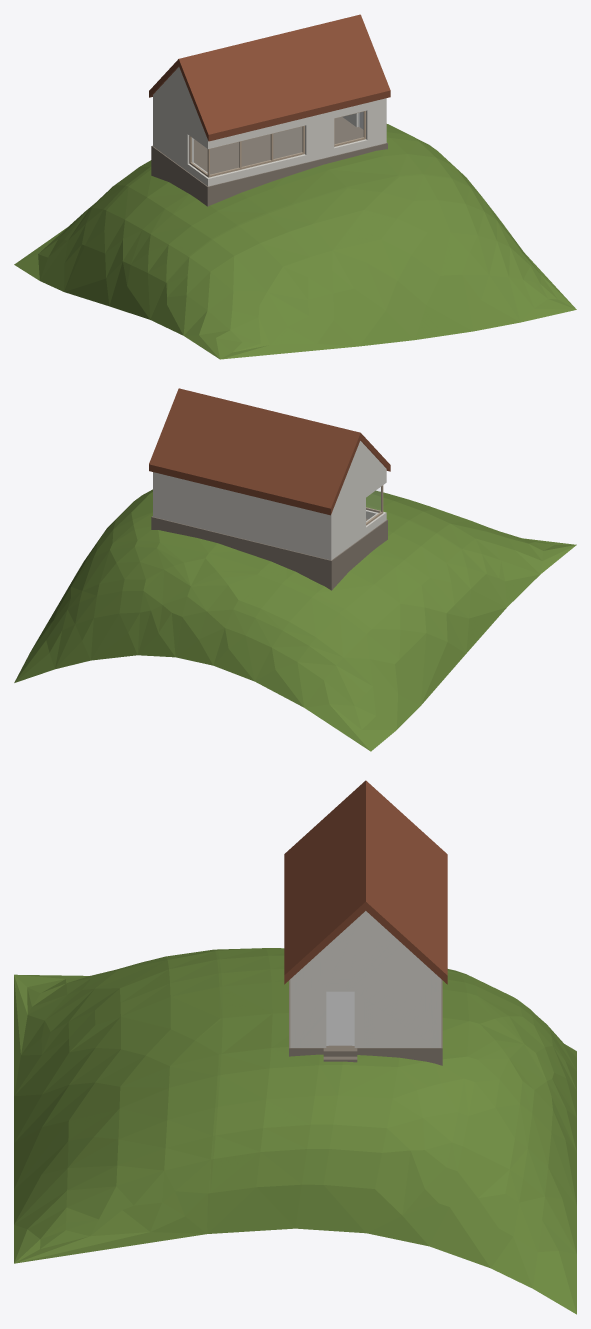
3 views of the same model, one above another, from view 1: azimuth 30°, elevation 25°; view 2: azimuth 150°, elevation 25°; view 3: azimuth 270°, elevation 25° (orthographic). The views are drawn at different scales.
Parts seen in each view (by area): view 1: 0GNruBn012euT0V4j1zNbY, 1OkhcYSJv5nB5Ye2gD90ix, 0WILkkrrn0ivmOkgqqAb$R, 38MvAlC2H7RhTum1r0FJFg, 15HQrV8WX2nud_EOSSfoGz, 2mxzwkYnTAaRbnWQoDxfDd; view 2: 0GNruBn012euT0V4j1zNbY, 0ZIj0vhLbDIBzLVO1s0S3q, 2dSmIsY2j10OJaUd5RmL3e, 0WILkkrrn0ivmOkgqqAb$R, 15HQrV8WX2nud_EOSSfoGz; view 3: 0GNruBn012euT0V4j1zNbY, 2XjjioqkD00gotrGmqpPnw, 1OkhcYSJv5nB5Ye2gD90ix, 0ZIj0vhLbDIBzLVO1s0S3q, 0WILkkrrn0ivmOkgqqAb$R, 24WV2H7cb3MgDzwgWj1b8X, 2dSmIsY2j10OJaUd5RmL3e.
Part boxes in pixels (x1,y1,x2,y2): 0GNruBn012euT0V4j1zNbY: (14, 124, 576, 359); 1OkhcYSJv5nB5Ye2gD90ix: (178, 14, 390, 141); 0WILkkrrn0ivmOkgqqAb$R: (151, 117, 387, 206); 38MvAlC2H7RhTum1r0FJFg: (204, 98, 386, 186); 15HQrV8WX2nud_EOSSfoGz: (156, 67, 207, 183); 2mxzwkYnTAaRbnWQoDxfDd: (274, 127, 302, 158); 0GNruBn012euT0V4j1zNbY: (14, 489, 576, 751); 0ZIj0vhLbDIBzLVO1s0S3q: (149, 388, 360, 515); 2dSmIsY2j10OJaUd5RmL3e: (153, 472, 334, 560); 0WILkkrrn0ivmOkgqqAb$R: (151, 516, 387, 590); 15HQrV8WX2nud_EOSSfoGz: (335, 441, 384, 557); 0GNruBn012euT0V4j1zNbY: (14, 948, 576, 1314); 2XjjioqkD00gotrGmqpPnw: (295, 911, 436, 1047); 1OkhcYSJv5nB5Ye2gD90ix: (284, 780, 365, 984); 0ZIj0vhLbDIBzLVO1s0S3q: (366, 780, 447, 984); 0WILkkrrn0ivmOkgqqAb$R: (289, 979, 442, 1065); 24WV2H7cb3MgDzwgWj1b8X: (326, 991, 354, 1045); 2dSmIsY2j10OJaUd5RmL3e: (431, 971, 441, 1047).
Bounding box in the file's own units: 20 × 13.91 × 20.
